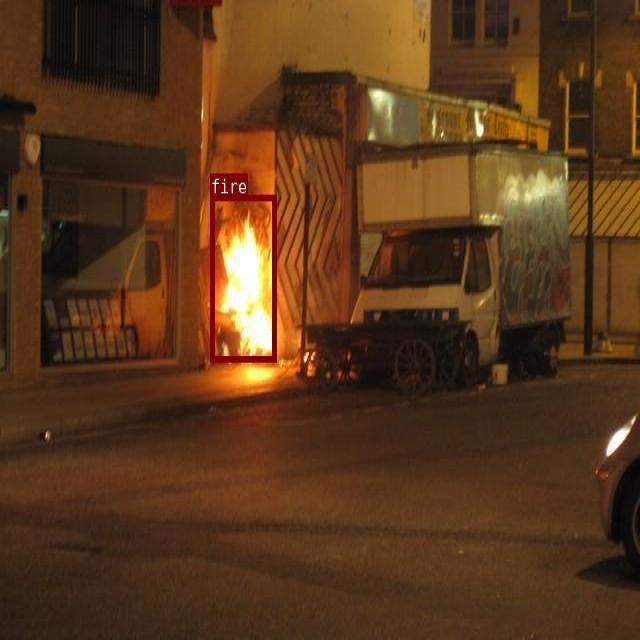fire: (210, 194, 276, 361)
